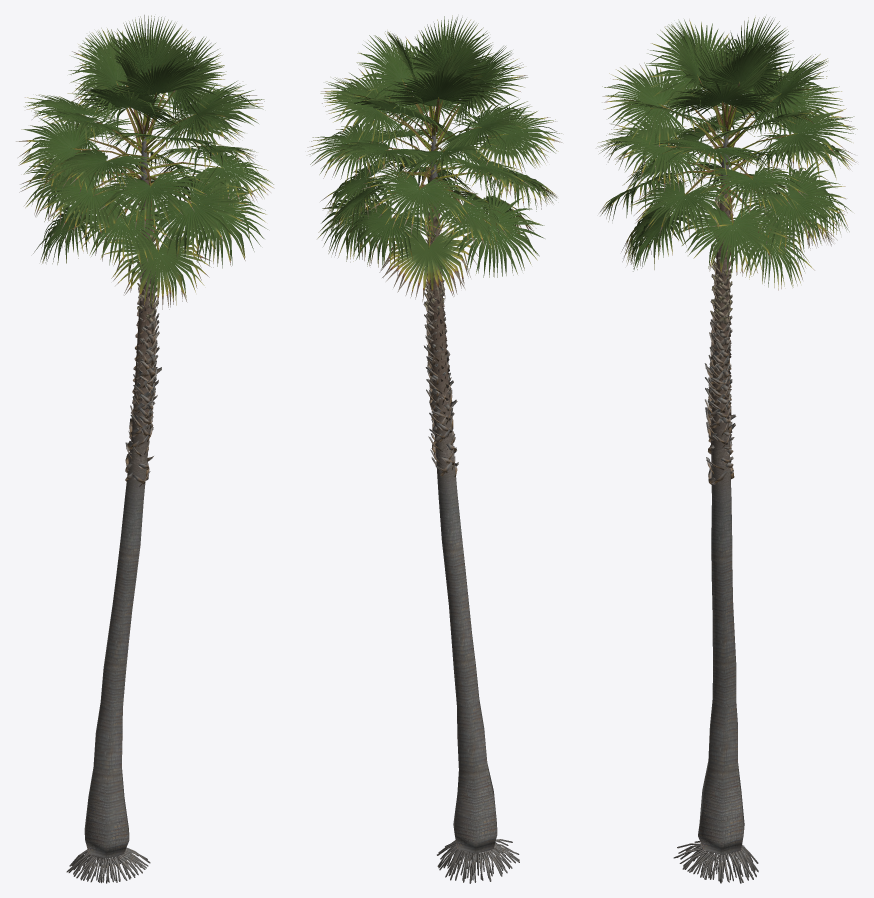
File: fanpalm_rob2.glb
3 views of the same model, side by side, from view 1: azimuth 30°, elevation 25°; view 2: azimuth 150°, elevation 25°; view 3: azimuth 270°, elevation 25° (orthographic). The views are drawn at different scales.
Visible parts, largest first — view 1: Washingtonia_robusta_HD_V2_w; view 2: Washingtonia_robusta_HD_V2_w; view 3: Washingtonia_robusta_HD_V2_w.
Part boxes in pixels (x1,y1,x2,y2): Washingtonia_robusta_HD_V2_w: (16,15,274,883); Washingtonia_robusta_HD_V2_w: (307,15,562,883); Washingtonia_robusta_HD_V2_w: (597,16,857,883).
Size of the model in its own units: 3.77 by 13.5 by 3.74.
Materials: 15 (15 with a texture image).
